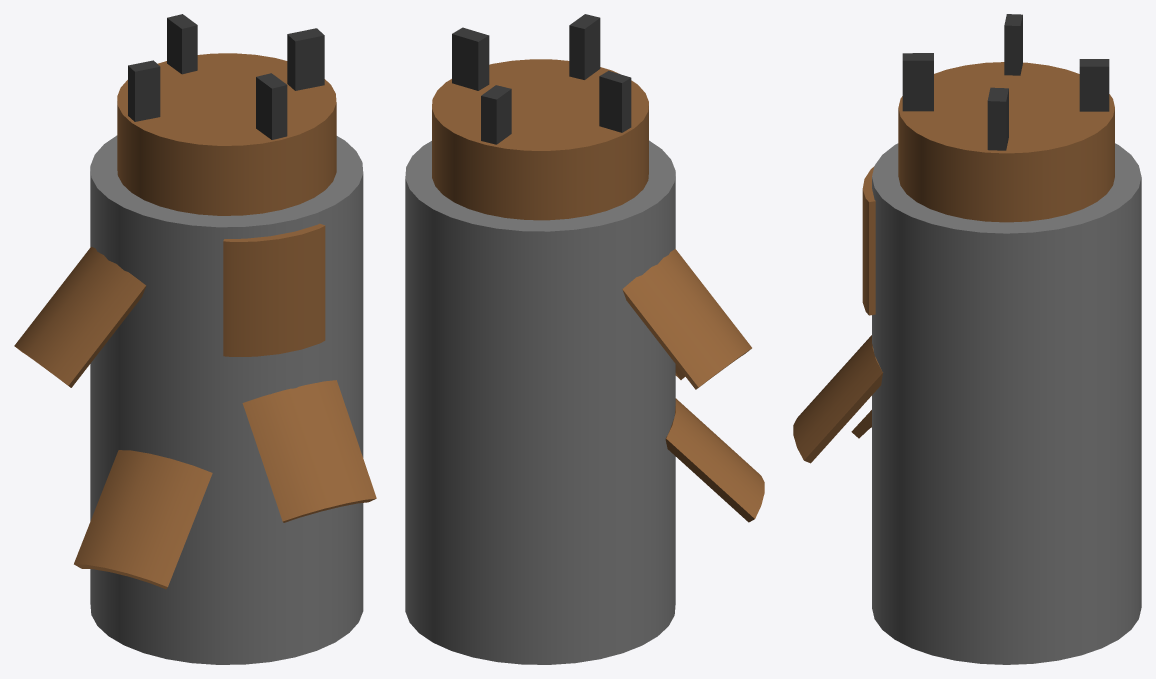
The model's file is Trashcan.fbx.
The picture shows the model from 3 angles, left to right: view 1: azimuth 30°, elevation 25°; view 2: azimuth 150°, elevation 25°; view 3: azimuth 270°, elevation 25°; orthographic projection.
Parts seen in each view (by area): view 1: PM3D_Cylinder3D1; view 2: PM3D_Cylinder3D1; view 3: PM3D_Cylinder3D1.
Part boxes in pixels (x1,y1,x2,y2): PM3D_Cylinder3D1: [14, 14, 376, 664]; PM3D_Cylinder3D1: [405, 14, 764, 664]; PM3D_Cylinder3D1: [793, 14, 1141, 664].
Bounding box in the file's own units: 224 × 382 × 219.
